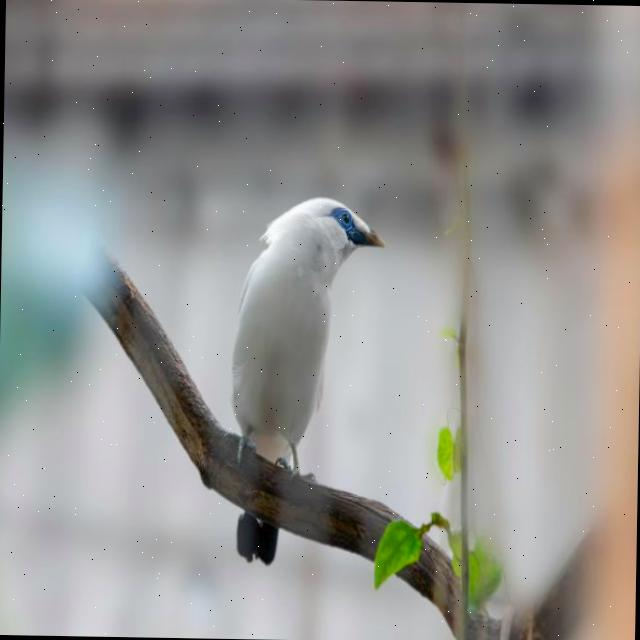Jalak Bali: (190, 158, 388, 614)
